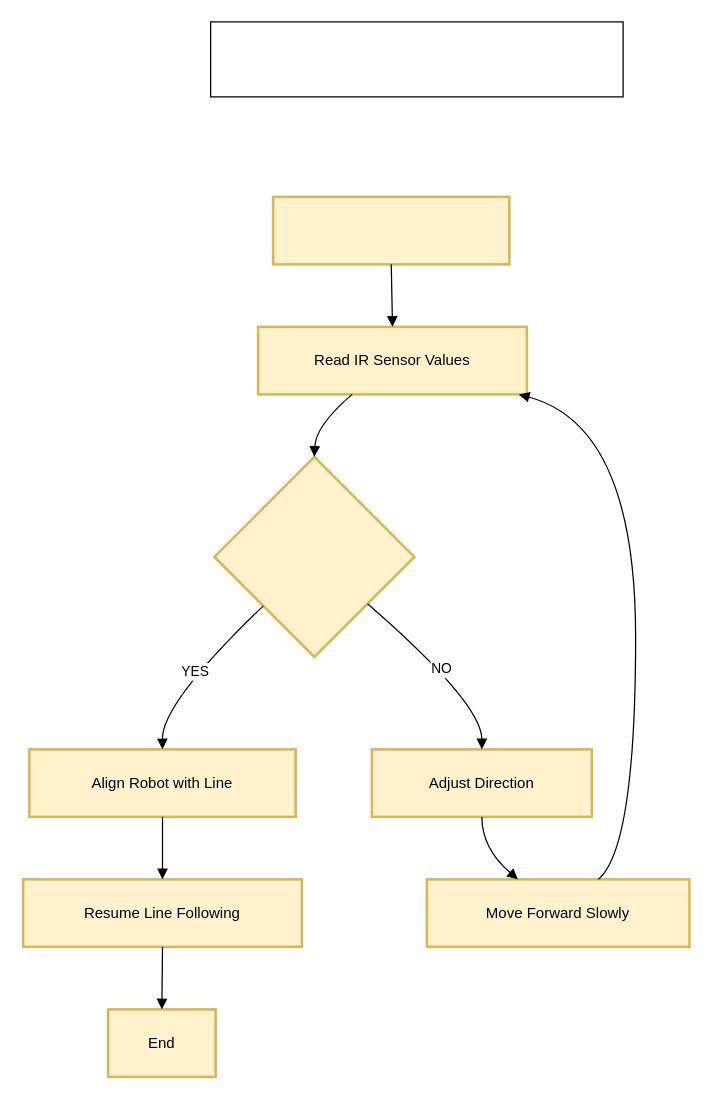
Image size: 711x1100. Some labels were removed from this diagram. Each missing label, with the centre of its shape:
Line Detected?: point (313, 556)
Return to Line logical Flowchart: point (416, 59)
Start Return Logic: point (390, 230)
